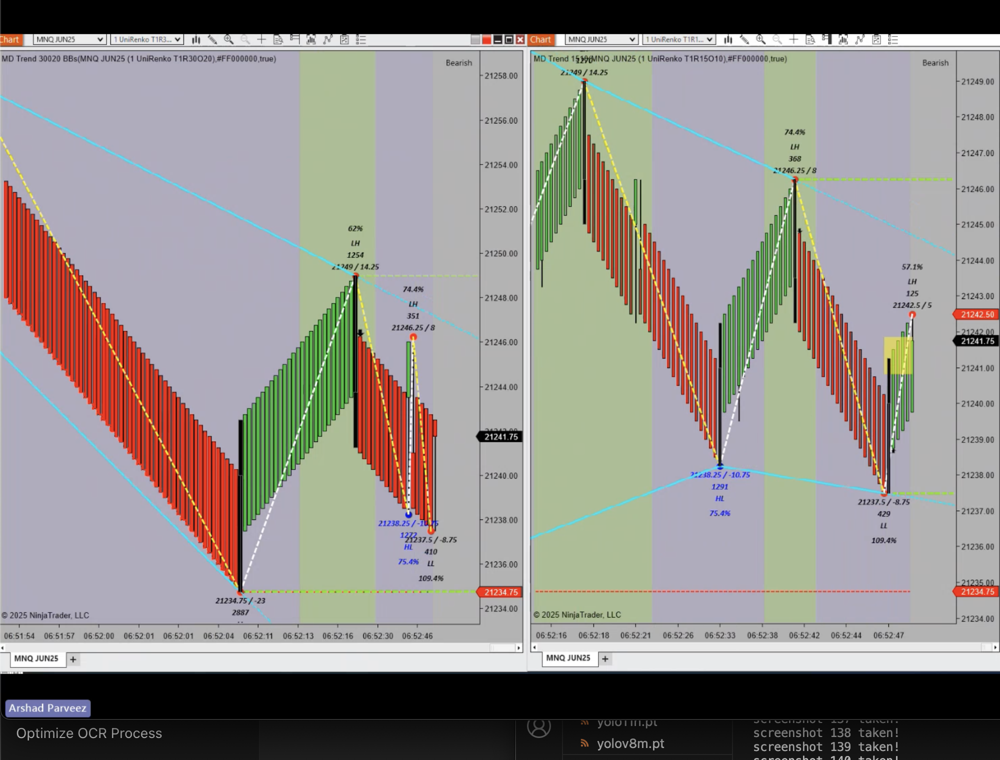HL: (397, 537, 420, 556), (709, 490, 731, 507)
LH: (784, 139, 809, 157), (401, 297, 428, 313), (904, 273, 924, 291), (346, 236, 368, 252)
LL: (874, 518, 897, 536), (422, 556, 441, 572)
